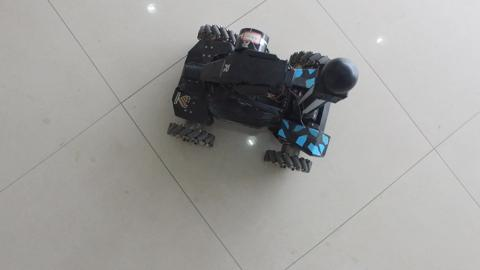chariot: (159, 22, 344, 180)
